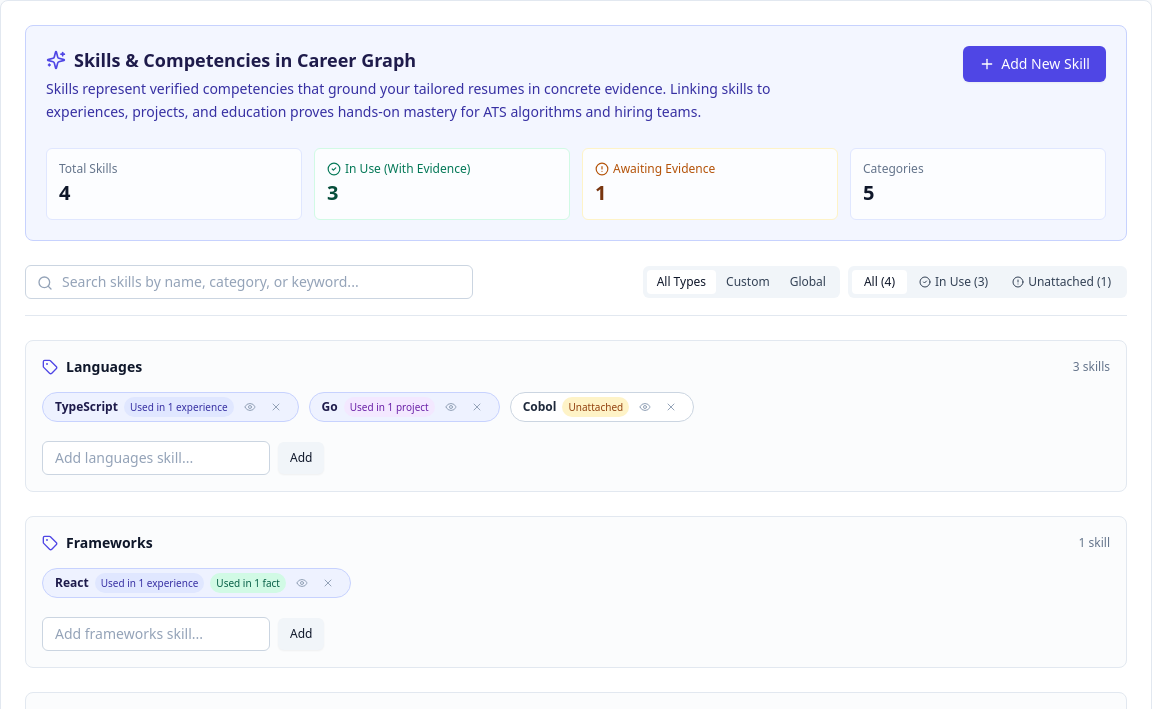
Test: SkillsManager › opens provenance dialog and displays detailed career graph evidence links
Note: Click provenance evidence button for TypeScript
Click the button named "View evidence for TypeScript" at (250, 406), box [240,396,260,416]
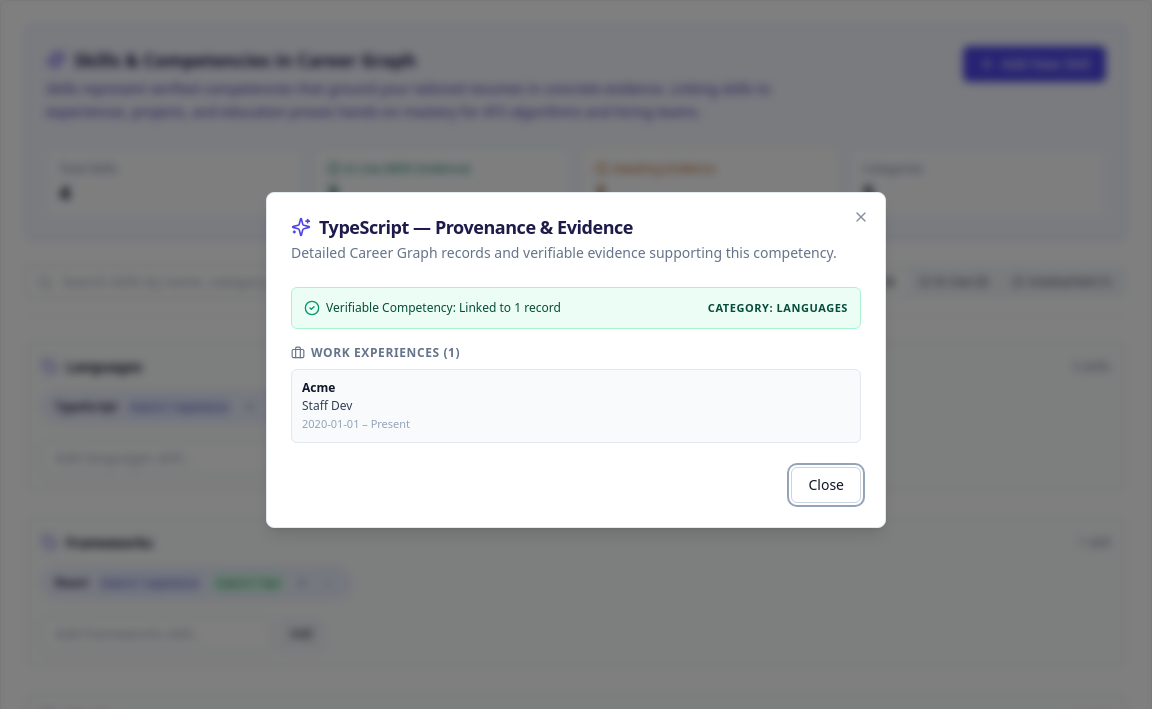
Now the dialog "TypeScript — Provenance & Evidence" is shown, box [266,192,886,528]
Now the text "Acme" is shown, box [302,379,335,396]
Now the text "Staff Dev" is shown, box [302,397,352,414]
Note: Close dialog
Click the button "Close" at (826, 485), box [792,467,861,503]
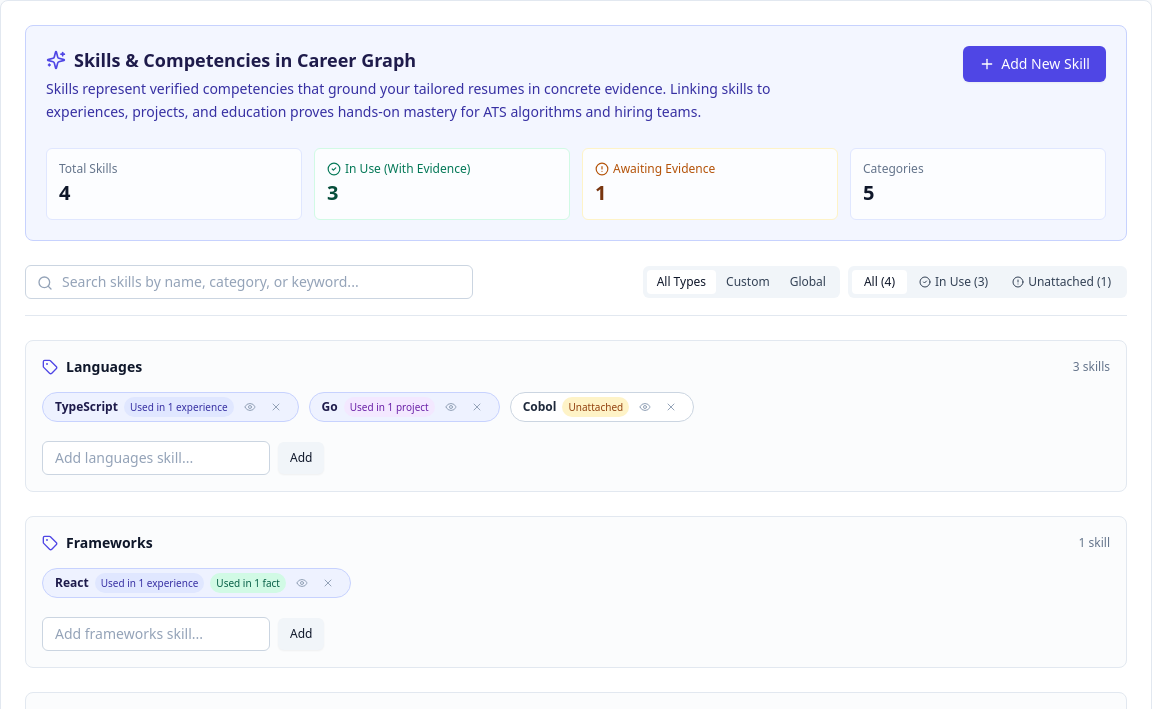
Now the dialog is gone
